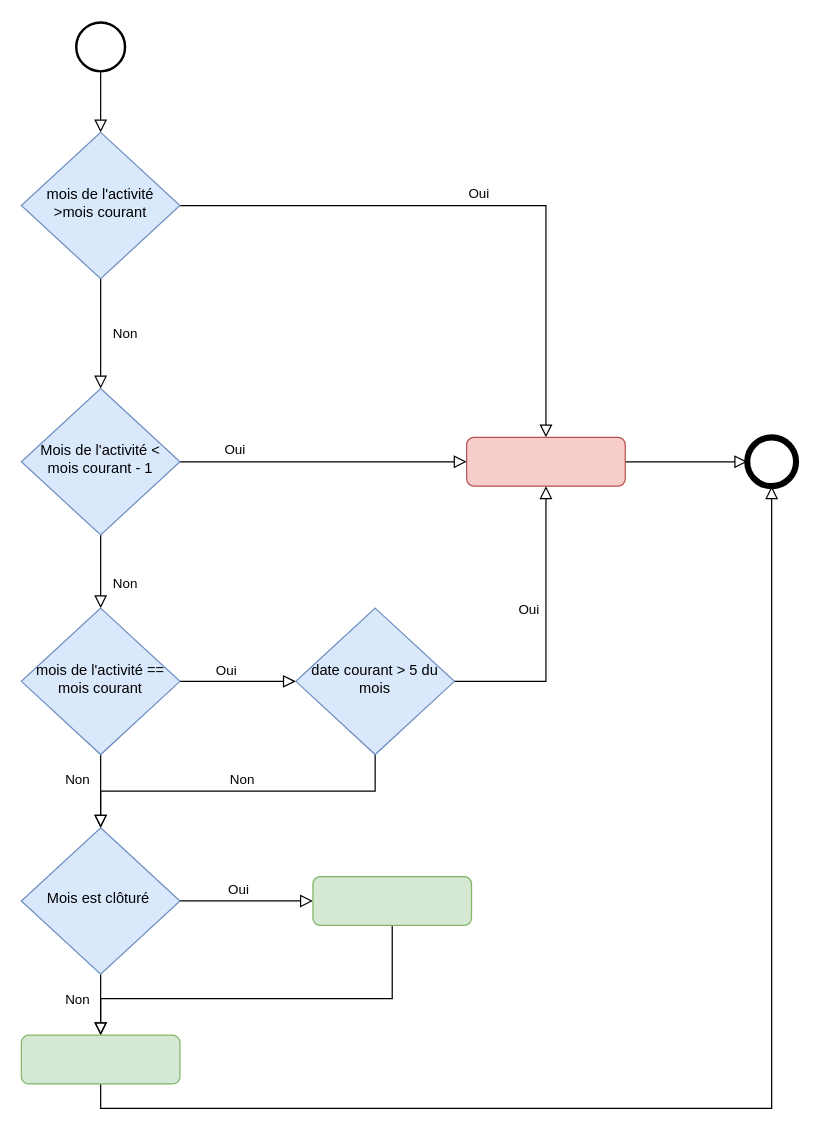
This 820x1142 diagram has some shape labels left out. Here are the shapes that lost their labels. From the top down, the centre of each, then its label:
At (545,461): "Erreur".
At (392,900): "Créer une régulation".
At (100,1059): "Créer une activité".
